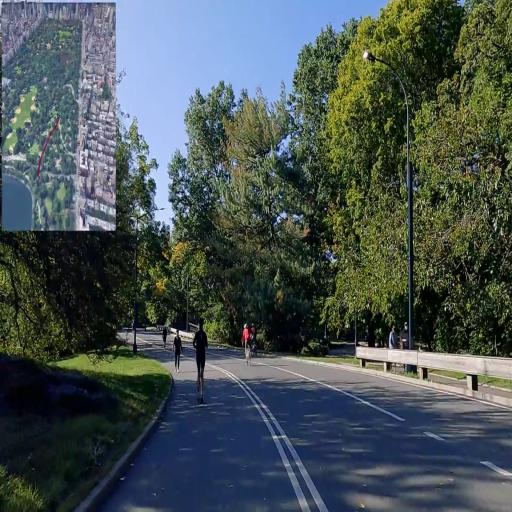Street_Light: (362, 48, 418, 346), (130, 203, 166, 360), (178, 260, 191, 333)
